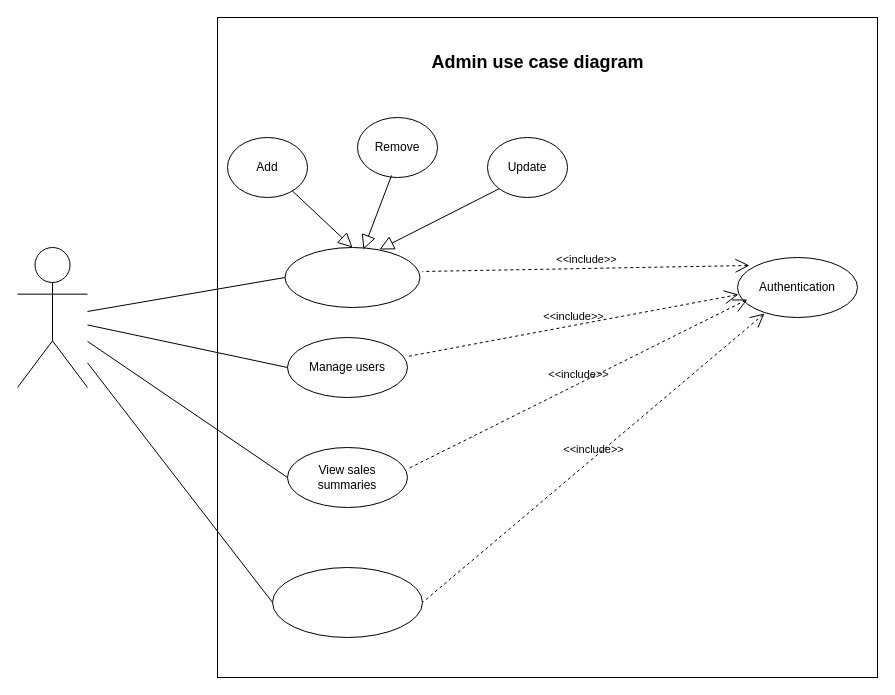
Some shapes in this 895 by 695 pixel diagram are drawn without their labels. Here are the shapes that lost their labels. From the top down, the centre of each, then its label:
[352,277]: Manage cars listing
[52,317]: Admin
[347,602]: Oversee payment Processing
